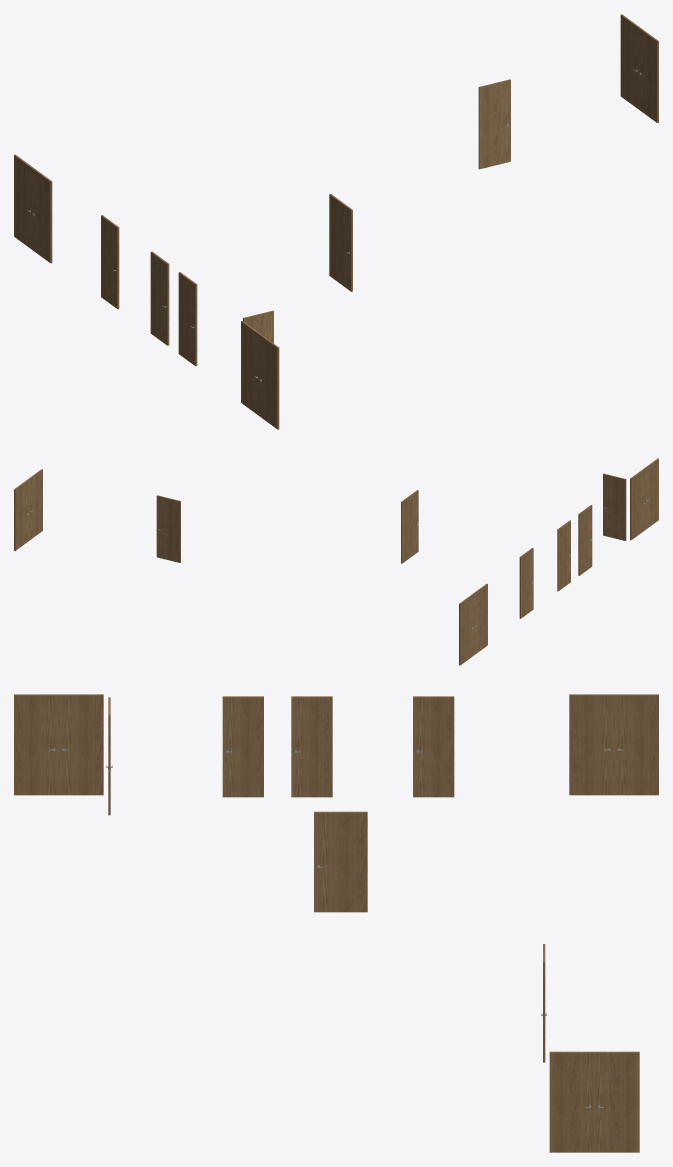
The model's file is MSH_Puertas_Lobby_Torre_2.FBX.
The picture shows the model from 3 angles, top to bottom: view 1: azimuth 30°, elevation 25°; view 2: azimuth 150°, elevation 25°; view 3: azimuth 270°, elevation 25°; orthographic projection. The views are drawn at different scales.
Visible parts, largest first — view 1: MSH_Puertas_Lobby_Torre_2; view 2: MSH_Puertas_Lobby_Torre_2; view 3: MSH_Puertas_Lobby_Torre_2.
Boxes of the visible parts, x1,y1,x2,y2 form: MSH_Puertas_Lobby_Torre_2: [14, 14, 658, 429]; MSH_Puertas_Lobby_Torre_2: [14, 458, 658, 665]; MSH_Puertas_Lobby_Torre_2: [14, 694, 658, 1152].
Size of the model in its own units: 1854 by 240 by 1405.
